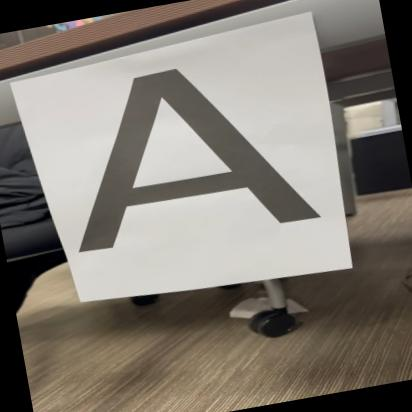seat: (34, 38, 334, 262)
